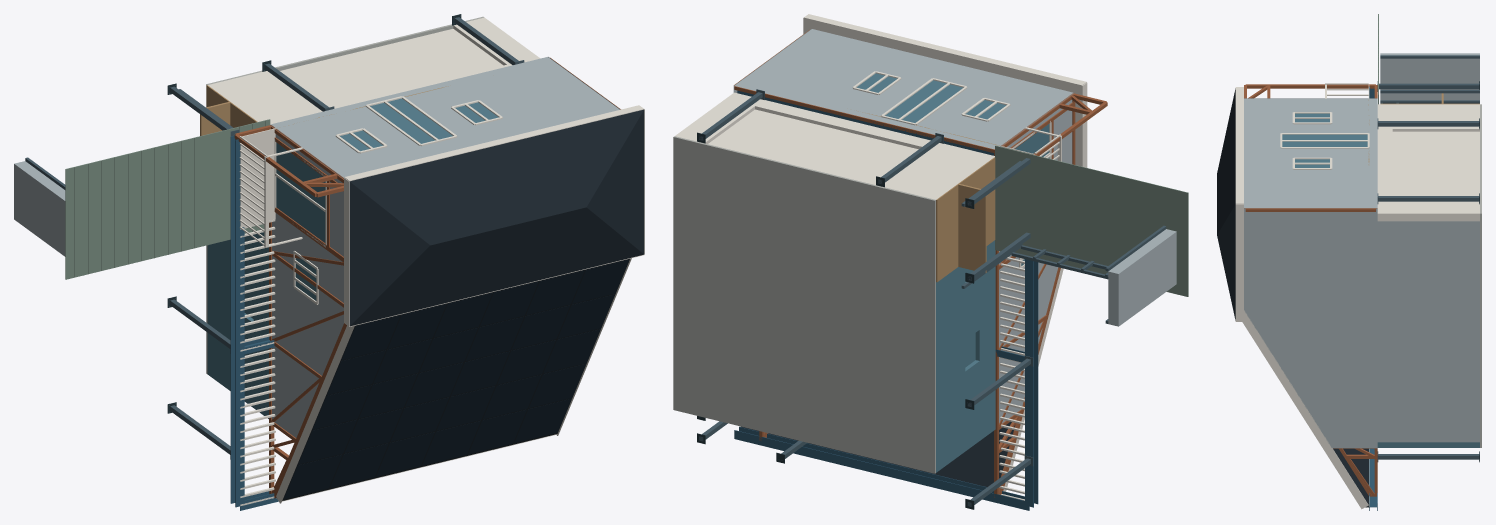
File: garage-model.obj
3 views of the same model, side by side, from view 1: azimuth 30°, elevation 25°; view 2: azimuth 150°, elevation 25°; view 3: azimuth 270°, elevation 25° (orthographic). The views are drawn at different scales.
Visible parts, largest first — view 1: Flush_solar_/_infill_panel, Hip_cap_north, Shelter_roof, North_upper_wall, Hip_cap_south, West_loft_wall, North_garage_door_(assumed_height), Hip_cap_west, West_window_2_opening, North_garage_door_opening, B-WO_beam, Roof_corrugation (+16 smaller); view 2: Existing_garage_slab, North_upper_wall, Shelter_roof, West_window_2_opening, North_garage_door_(assumed_height), North_garage_door_opening, Electrical_pillar, West_loft_wall, T-SO_beam, B-WO_beam, Workbench_rear_panel, Hip_cap_white_soffit (+15 smaller); view 3: East_loft_wall, East_wall, North_upper_wall, North_garage_door_(assumed_height), North_garage_door_opening, Electrical_pillar, Hip_cap_fascia, Roof_fascia, Hip_cap_north, North_upper_wall_glazing, Shelter_column, Hip_cap_east (+10 smaller).
Boxes of the visible parts, x1,y1,x2,y2 form: Flush_solar_/_infill_panel: [284, 260, 628, 498]; Hip_cap_north: [350, 109, 643, 245]; Shelter_roof: [65, 119, 270, 279]; North_upper_wall: [271, 57, 619, 177]; Hip_cap_south: [350, 207, 643, 326]; West_loft_wall: [270, 125, 343, 437]; North_garage_door_(assumed_height): [280, 29, 502, 107]; Hip_cap_west: [349, 182, 429, 325]; West_window_2_opening: [207, 232, 268, 411]; North_garage_door_opening: [208, 17, 540, 124]; B-WO_beam: [230, 135, 244, 507]; Roof_corrugation: [66, 121, 266, 279]; Existing_garage_slab: [673, 136, 935, 473]; North_upper_wall: [734, 29, 1072, 149]; Shelter_roof: [995, 145, 1188, 296]; West_window_2_opening: [936, 240, 995, 465]; North_garage_door_(assumed_height): [708, 109, 918, 184]; North_garage_door_opening: [675, 92, 994, 199]; Electrical_pillar: [1108, 229, 1176, 326]; West_loft_wall: [999, 93, 1073, 423]; T-SO_beam: [734, 426, 1033, 510]; B-WO_beam: [1025, 259, 1038, 507]; Workbench_rear_panel: [936, 157, 995, 282]; Hip_cap_white_soffit: [803, 18, 1081, 166]; East_loft_wall: [1244, 208, 1377, 448]; East_wall: [1377, 221, 1479, 442]; North_upper_wall: [1244, 98, 1377, 207]; North_garage_door_(assumed_height): [1392, 131, 1479, 195]; North_garage_door_opening: [1377, 104, 1479, 221]; Electrical_pillar: [1380, 53, 1479, 100]; Hip_cap_fascia: [1235, 87, 1243, 321]; Roof_fascia: [1242, 310, 1368, 509]; Hip_cap_north: [1217, 88, 1235, 234]; North_upper_wall_glazing: [1282, 113, 1367, 167]; Shelter_column: [1380, 55, 1479, 103]; Hip_cap_east: [1217, 204, 1235, 320].
Bounding box in the file's own units: 11.23 × 8.39 × 6.48.
